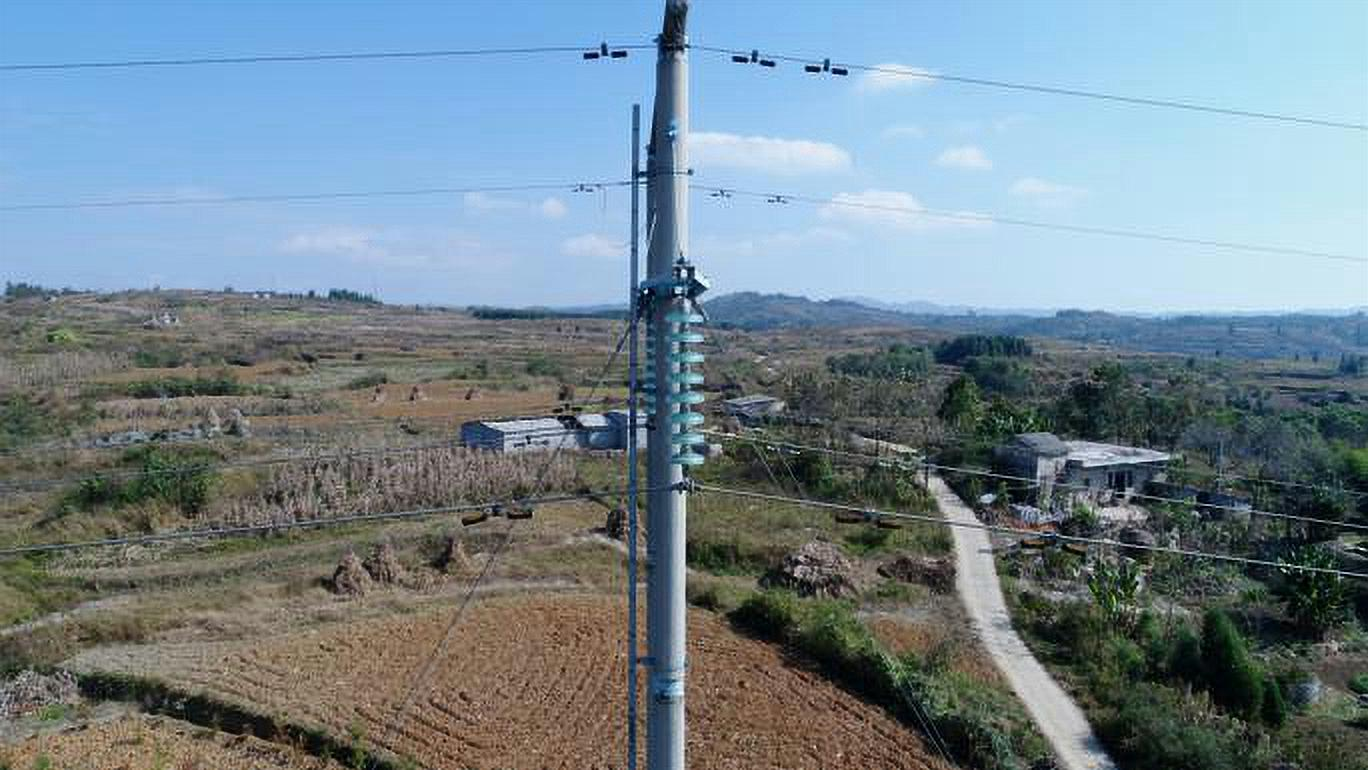insulator: (658, 306, 711, 470)
